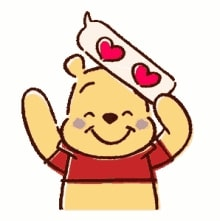Winnie: (53, 54, 167, 185)
